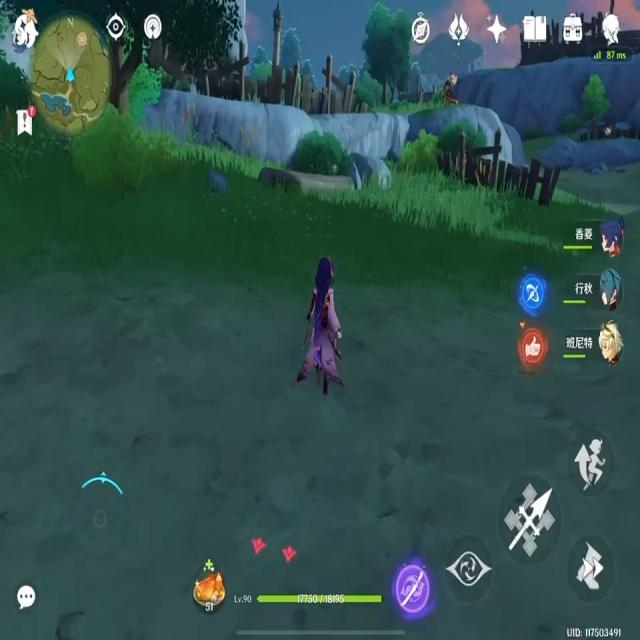genshin-hilichurls: (443, 70, 463, 106)
